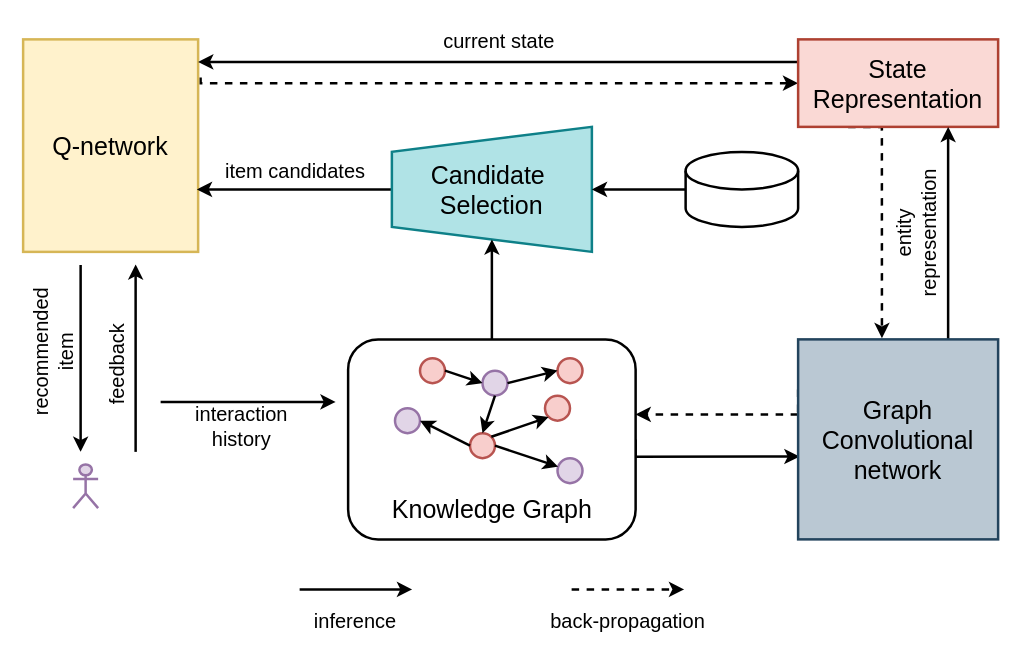
Some shapes in this 1020 by 660 pixel diagram are drawn without their labels. The shapes that lost their labels are listed below. From the top down, each one's centre as x and y in pixels, then its label:
At point (741, 189): "item pool".
At point (85, 485): "Actor".
